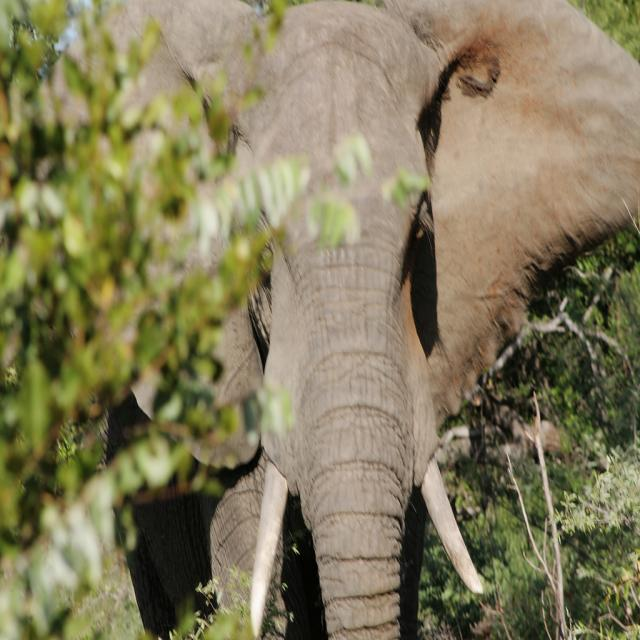elephant: (32, 0, 639, 639)
